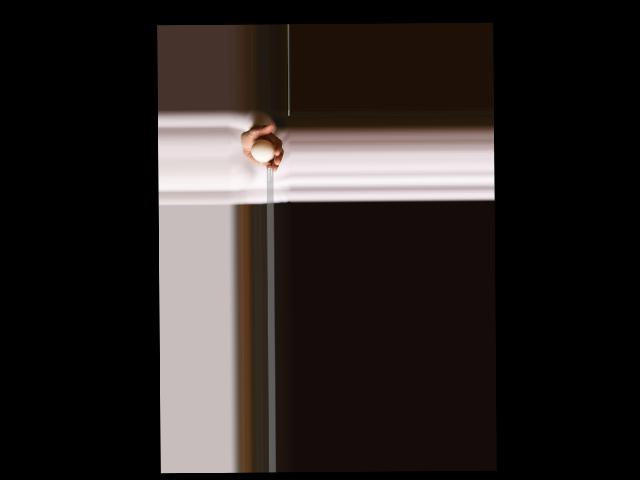egg: (251, 139, 275, 162)
